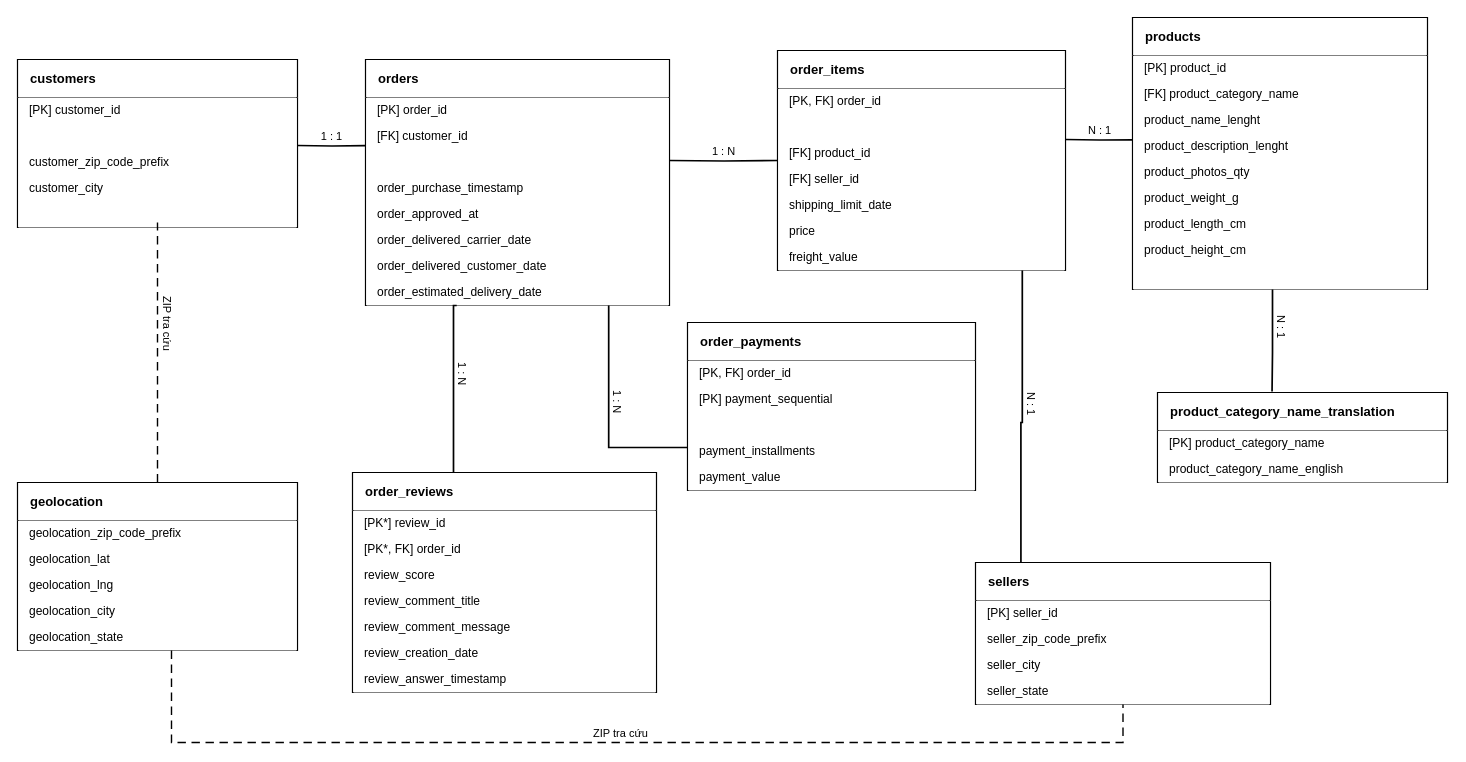
Image size: 1466x762. Some labels were removed from this diagram. The centre of each missing label's shape, as x and y in pixels:
"[PK] order_item_id" goes at pixel 921 127.
"customer_state" goes at pixel 157 214.
"customer_unique_id" goes at pixel 157 136.
"order_status" goes at pixel 517 162.
"payment_type" goes at pixel 831 425.
"product_width_cm" goes at pixel 1279 276.
